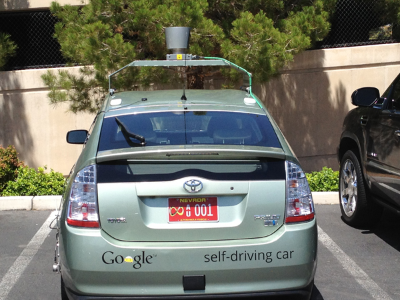licence: (167, 197, 217, 227)
